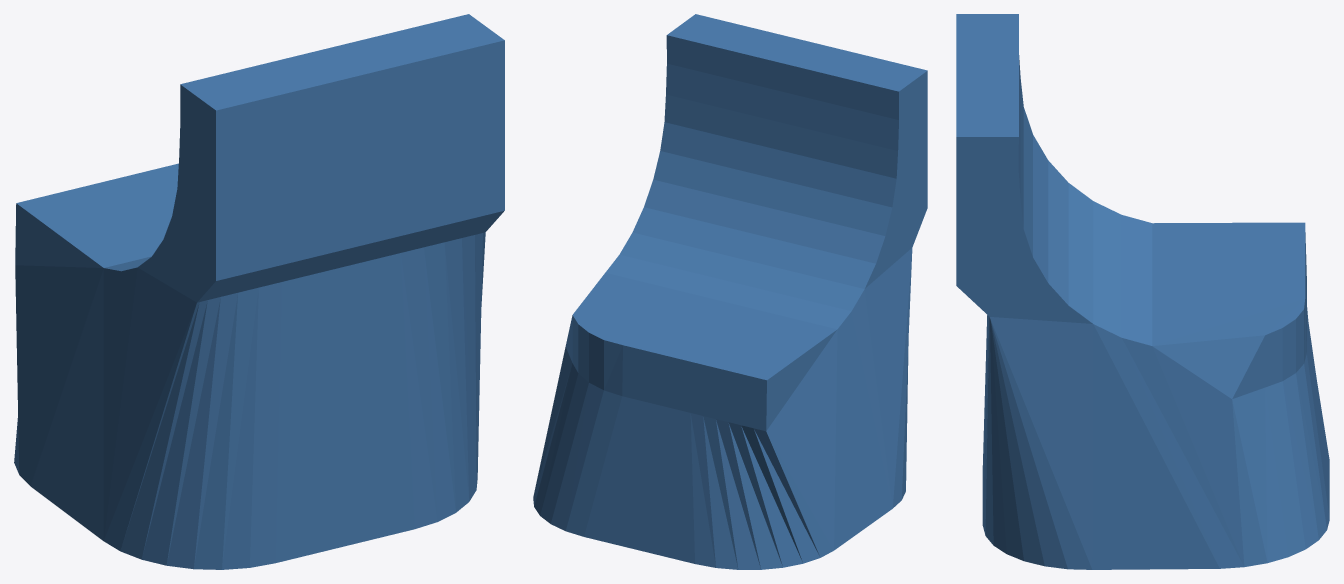
The model's file is VIS_BaseLink.dae.
3 views of the same model, side by side, from view 1: azimuth 30°, elevation 25°; view 2: azimuth 150°, elevation 25°; view 3: azimuth 270°, elevation 25° (orthographic). The views are drawn at different scales.
Parts seen in each view (by area): view 1: VIS_BaseLink; view 2: VIS_BaseLink; view 3: VIS_BaseLink.
Boxes of the visible parts, bbox=[...] form: VIS_BaseLink: bbox=[14, 14, 504, 569]; VIS_BaseLink: bbox=[533, 14, 927, 569]; VIS_BaseLink: bbox=[956, 14, 1329, 569].
Size of the model in its own units: 0.084 by 0.0871 by 0.1082.
